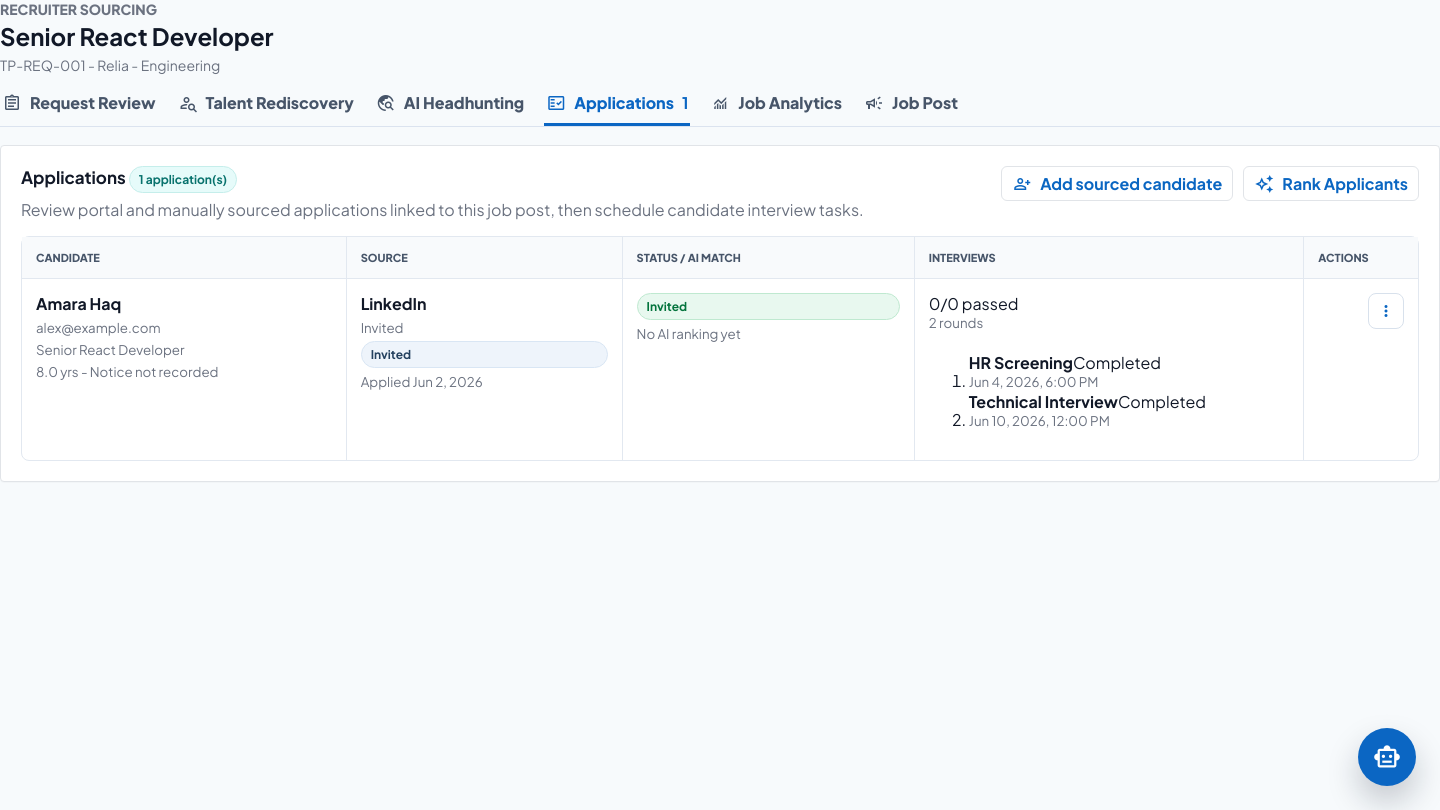
Scenario: RecruiterSourcingComponent skill picker behavior › opens completed interview feedback details from the application timeline
Click the button with class "interview-timeline-detail-trigger" that starts with "Technical Interview": (1129, 410) [969,391,1289,429]
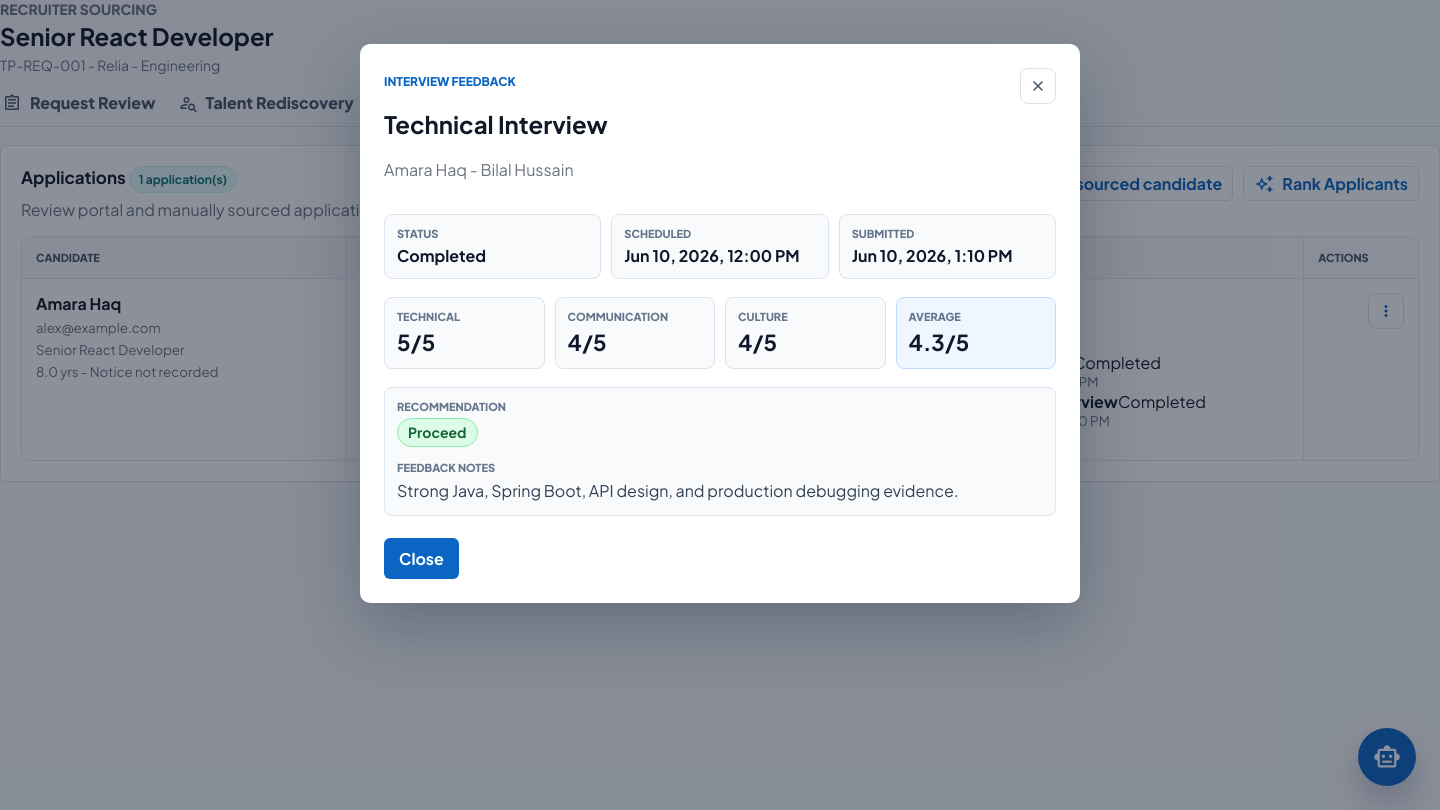
Expected: the dialog with class "interview-feedback-modal" is shown, [360,44,1080,603]
Expected: the dialog with class "interview-feedback-modal" shows "Technical Interview", [384,109,608,139]
Expected: the dialog with class "interview-feedback-modal" shows "Amara Haq", [384,159,574,180]
